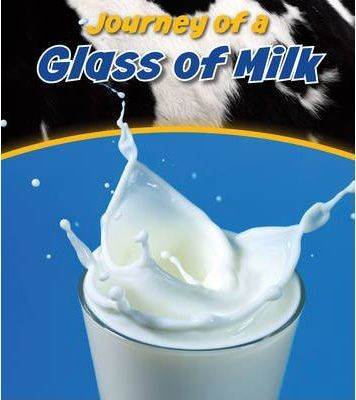glass of milk: (78, 218, 306, 400)
